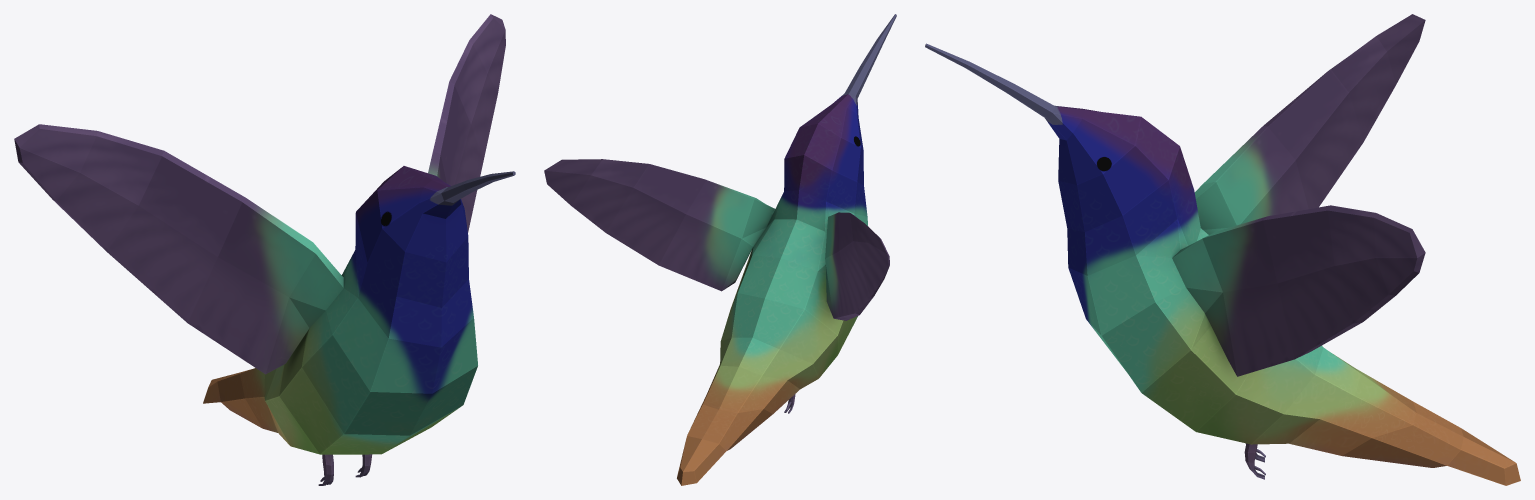
Rendered from 4737f745-a27e-41d5-b8ea-e888637aadb2.glb.
3 views of the same model, side by side, from view 1: azimuth 30°, elevation 25°; view 2: azimuth 150°, elevation 25°; view 3: azimuth 270°, elevation 25° (orthographic). The views are drawn at different scales.
Parts seen in each view (by area): view 1: Hummingbird_Mesh; view 2: Hummingbird_Mesh; view 3: Hummingbird_Mesh.
Boxes of the visible parts, x1,y1,x2,y2 form: Hummingbird_Mesh: (14,14,515,485); Hummingbird_Mesh: (544,14,896,485); Hummingbird_Mesh: (925,14,1520,485).
Size of the model in its own units: 2.11 by 1.85 by 2.28.
1 material, 1 textured.
